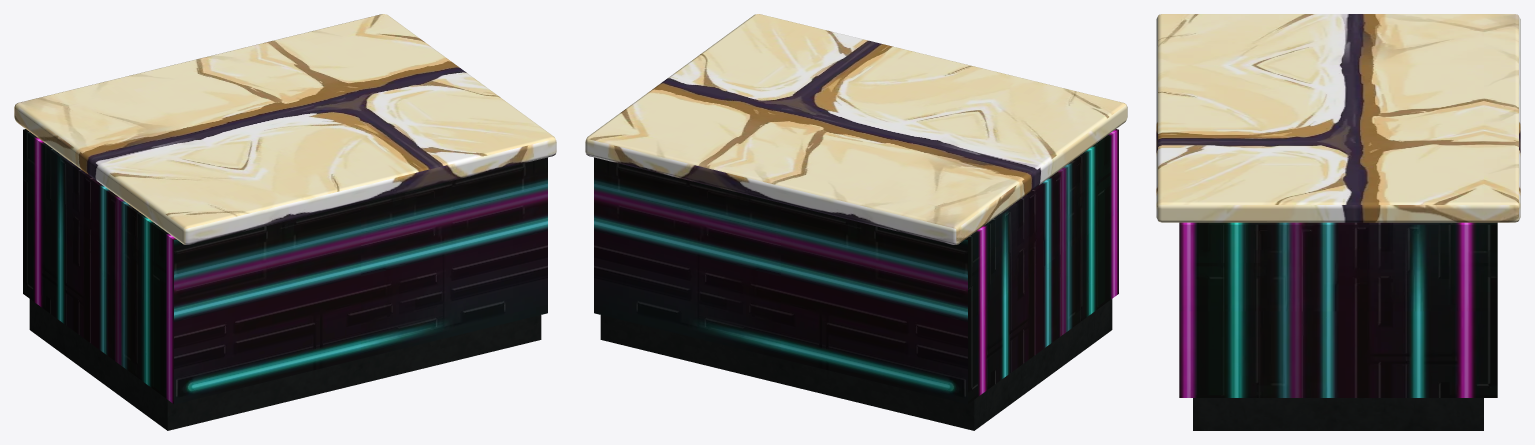
Rendered from prop_counter.glb.
3 renders of one model, left to right at view 1: azimuth 30°, elevation 25°; view 2: azimuth 150°, elevation 25°; view 3: azimuth 270°, elevation 25°, orthographic. The views are drawn at different scales.
Parts seen in each view (by area): view 1: prop; view 2: prop; view 3: prop.
Boxes of the visible parts, <box> form: prop: <box>14,14,556,430</box>; prop: <box>585,14,1127,430</box>; prop: <box>1156,14,1520,430</box>.
Size of the model in its own units: 1 by 0.55 by 0.8.
Materials: 3 (3 with a texture image).
